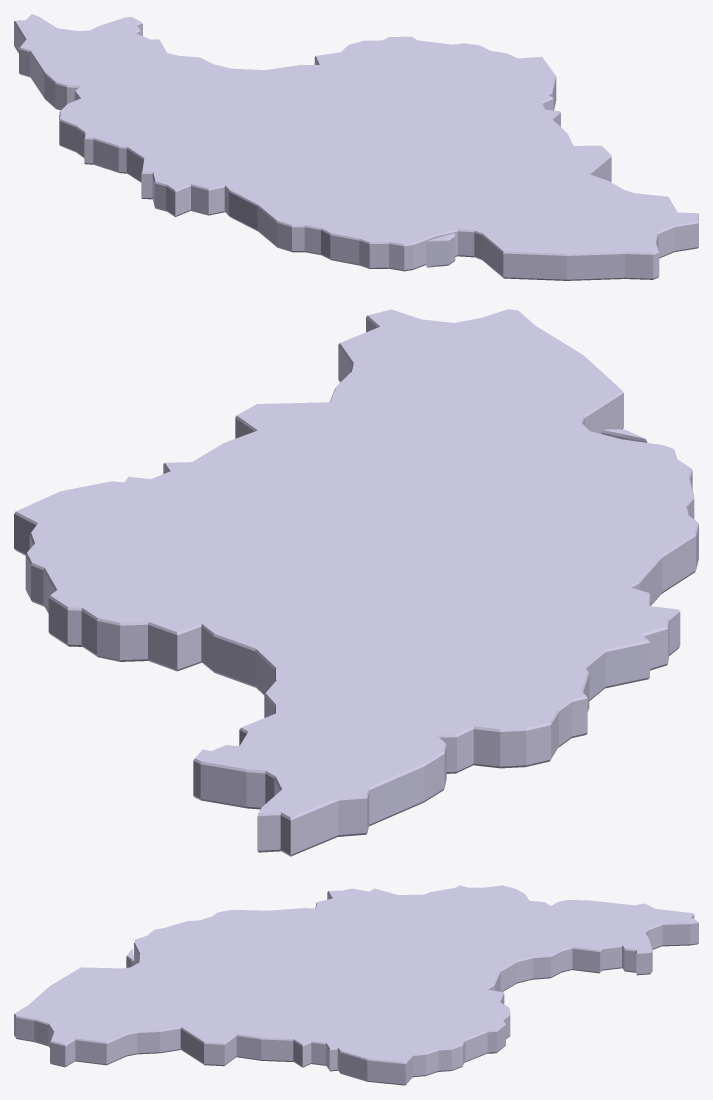
File: IRN.glb
3 views of the same model, one above another, from view 1: azimuth 30°, elevation 25°; view 2: azimuth 150°, elevation 25°; view 3: azimuth 270°, elevation 25° (orthographic). The views are drawn at different scales.
Size of the model in its own units: 1.13 by 0.068 by 1.83.
